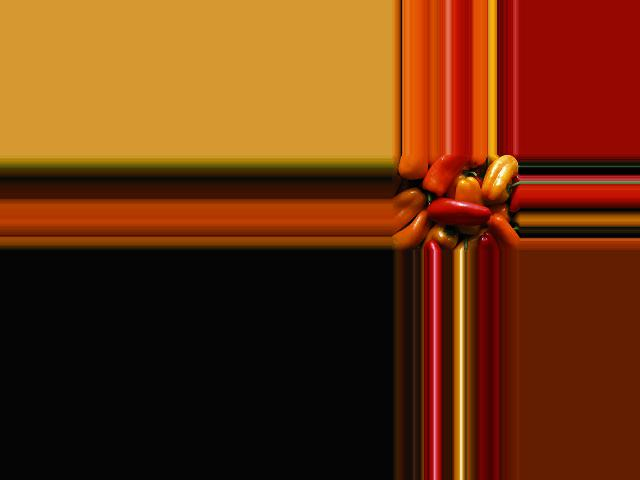bell_pepper: (478, 156, 519, 200)
